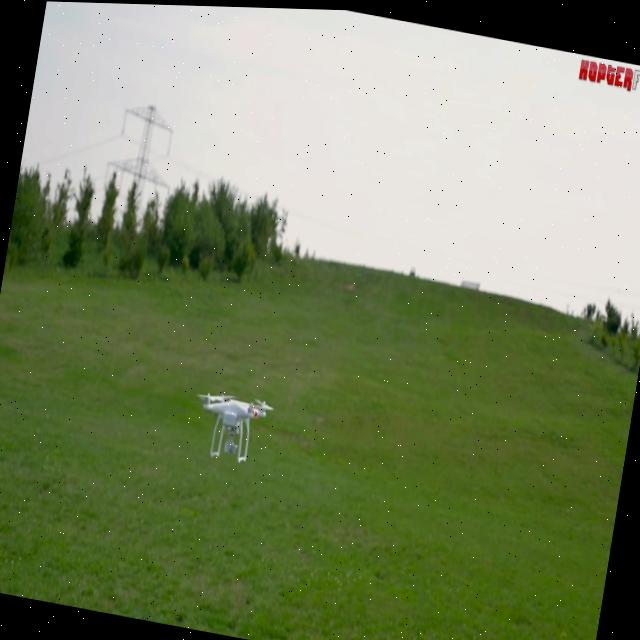drone: (192, 385, 276, 468)
